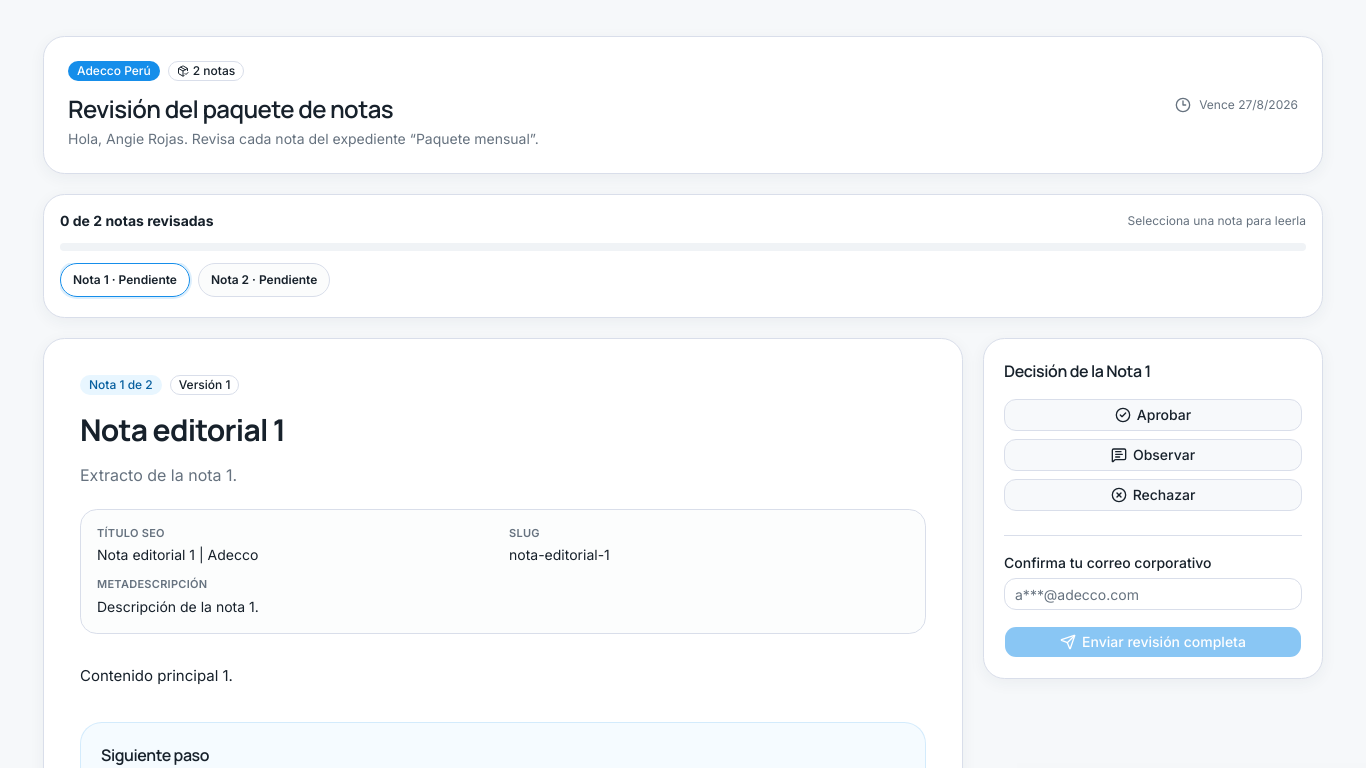
Scenario: NotePackageReviewPortal › muestra una nota a la vez con su propuesta visual
Expected: the heading "Nota editorial 1" is shown, [80,409,285,450]
Expected: the text "Nota editorial 2" is not shown
What coordinates should you click on to do the following:
click the tab "Nota 2 · Pendiente"
I would click on:
 (264, 280)
Its box is [198,263,330,297].
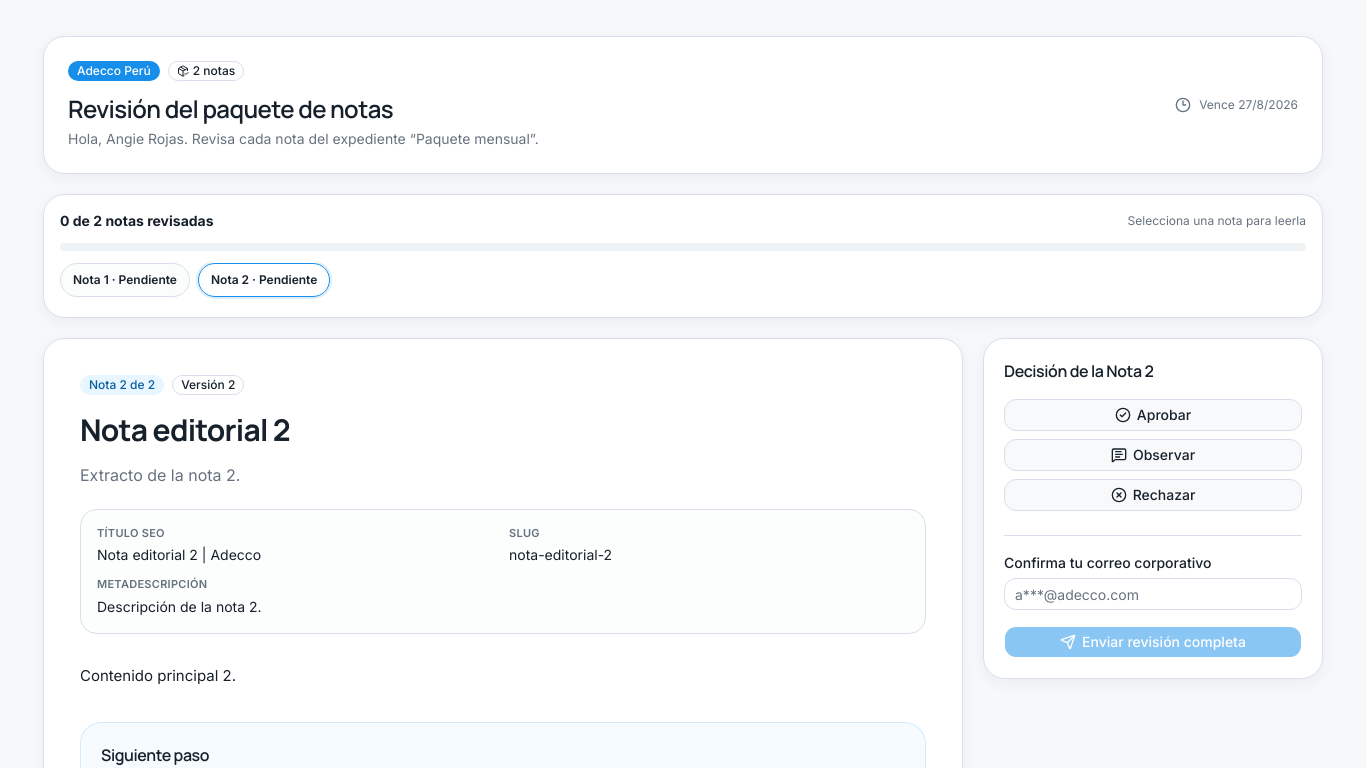
Expected: the heading "Nota editorial 2" is shown, [80,409,290,450]
Expected: the heading "Nota editorial 1" is gone
